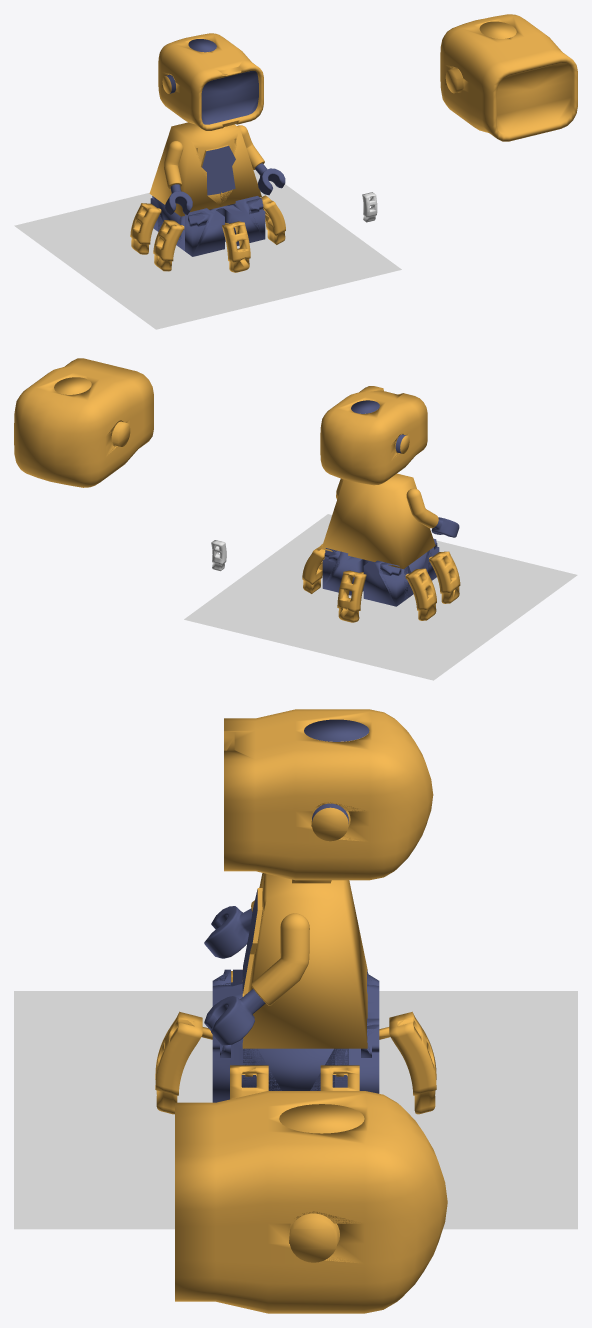
File: Pibacsu.glb
The picture shows the model from 3 angles, top to bottom: view 1: azimuth 30°, elevation 25°; view 2: azimuth 150°, elevation 25°; view 3: azimuth 270°, elevation 25°; orthographic projection. The views are drawn at different scales.
Visible parts, largest first — view 1: Plane, Slice.001, Head, body, Leg, Lower body, hand, Cube.001; view 2: Plane, Slice.001, Head, body, Leg, Lower body, hand, Cube.001; view 3: Plane, Slice.001, Head, body, Lower body, Leg, hand.
Part boxes in pixels (x1,y1,x2,y2): Plane: (14, 170, 401, 329); Slice.001: (440, 14, 577, 141); Head: (158, 33, 263, 130); body: (149, 122, 261, 216); Leg: (130, 195, 285, 272); Lower body: (150, 196, 265, 256); hand: (164, 125, 285, 215); Cube.001: (362, 192, 377, 222); Plane: (184, 514, 577, 680); Slice.001: (14, 358, 153, 487); Head: (320, 386, 427, 485); body: (321, 473, 435, 568); Leg: (302, 544, 460, 622); Lower body: (322, 538, 439, 606); hand: (336, 478, 459, 537); Cube.001: (211, 540, 226, 571); Plane: (14, 991, 577, 1229); Slice.001: (175, 1091, 447, 1313); Head: (224, 709, 433, 883); body: (242, 873, 367, 1048); Lower body: (212, 969, 379, 1102); Leg: (155, 971, 436, 1114); hand: (204, 900, 309, 1045).
Bounding box in the file's own units: 8.9 × 3.74 × 4.68.
